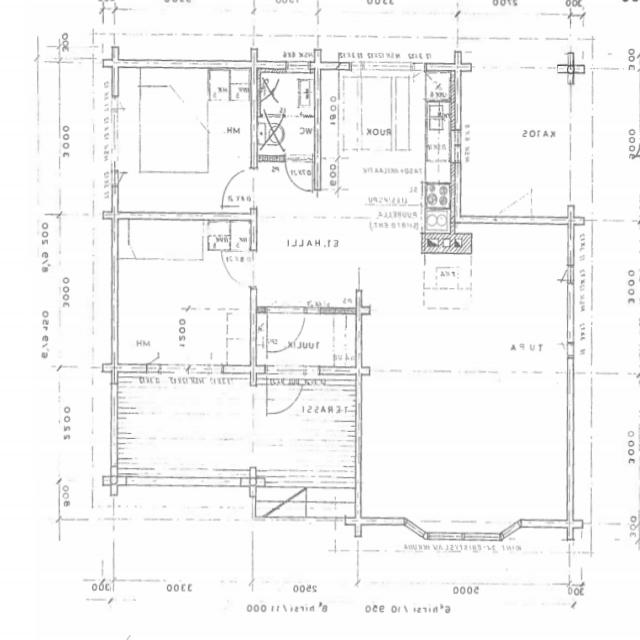door: (267, 365, 305, 418), (268, 306, 305, 359), (497, 174, 531, 224), (220, 169, 257, 206), (222, 251, 257, 286), (286, 155, 313, 194)
